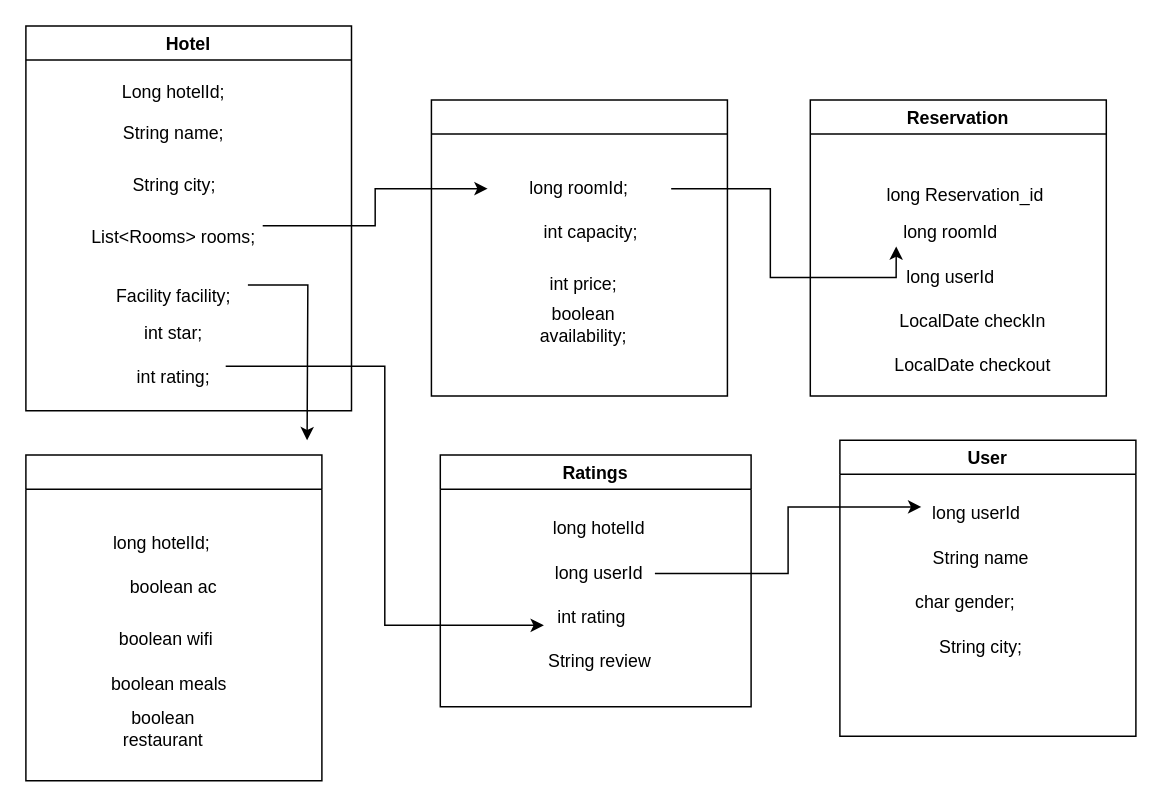
Image size: 1162x807. Some labels were removed from this diagram. The shapes that lost their labels are listed below. From the top down, each one's box as (x1, y1, x2, y2) in pixels, then its label:
(430, 98, 727, 396): Rooms
(24, 454, 322, 781): Facility
